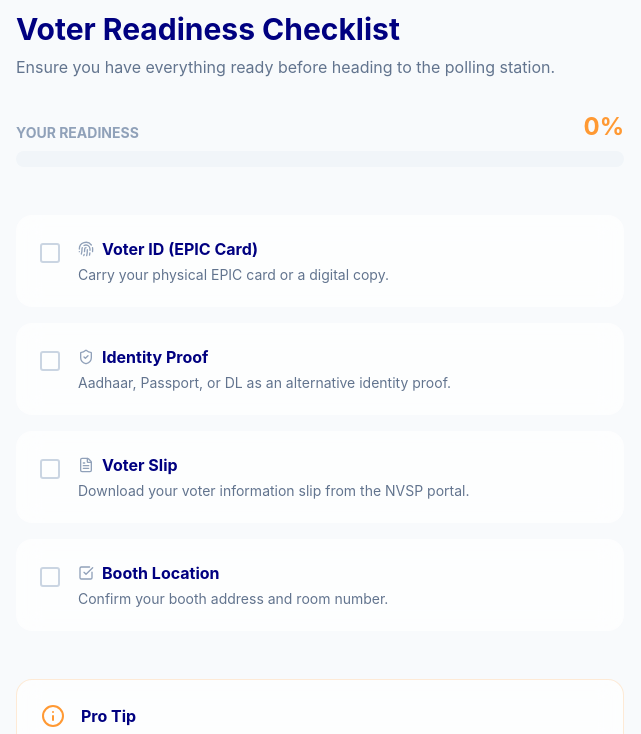
Test: ChecklistPage › toggles items when clicked
Click the heading "Voter ID (EPIC Card)": (180, 249) [102,237,258,261]
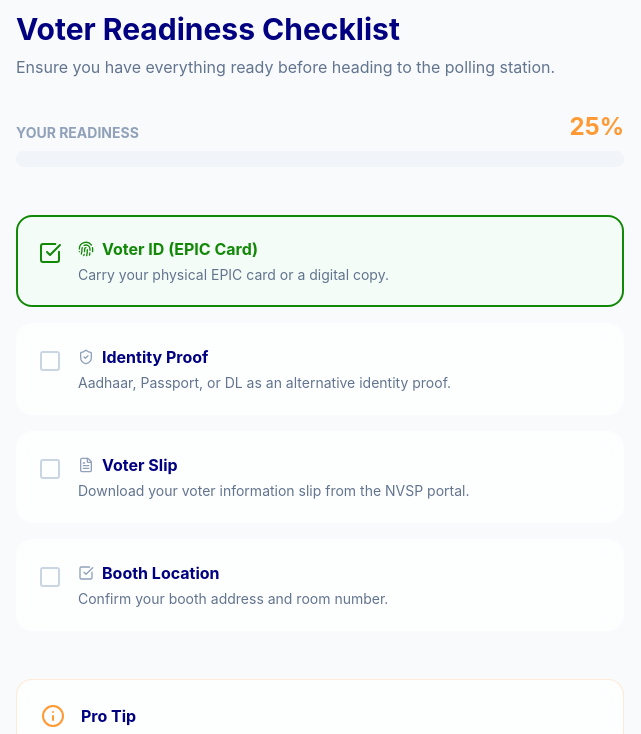
Check: the text "25%" is shown, box [570,111,624,143]
Click the heading "Voter ID (EPIC Card)": (180, 249) [102,237,258,261]
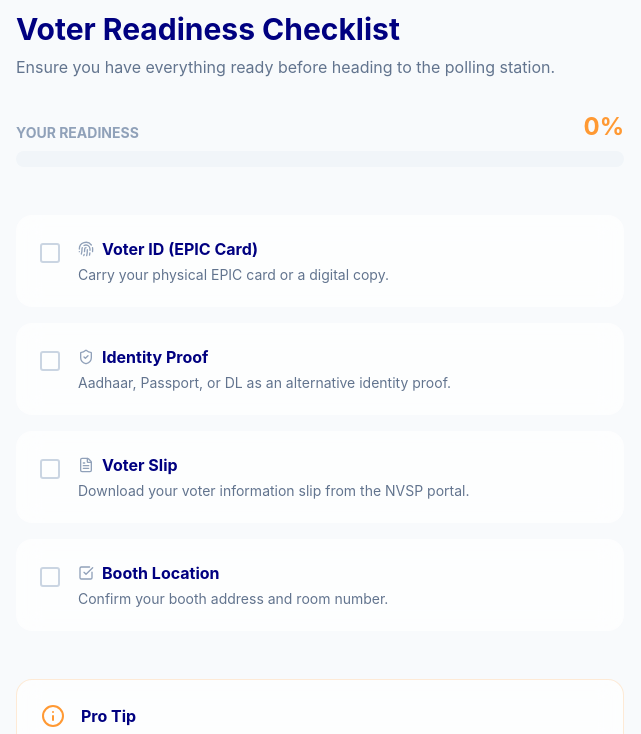
Check: the text "0%" is shown, box [583,111,624,143]
